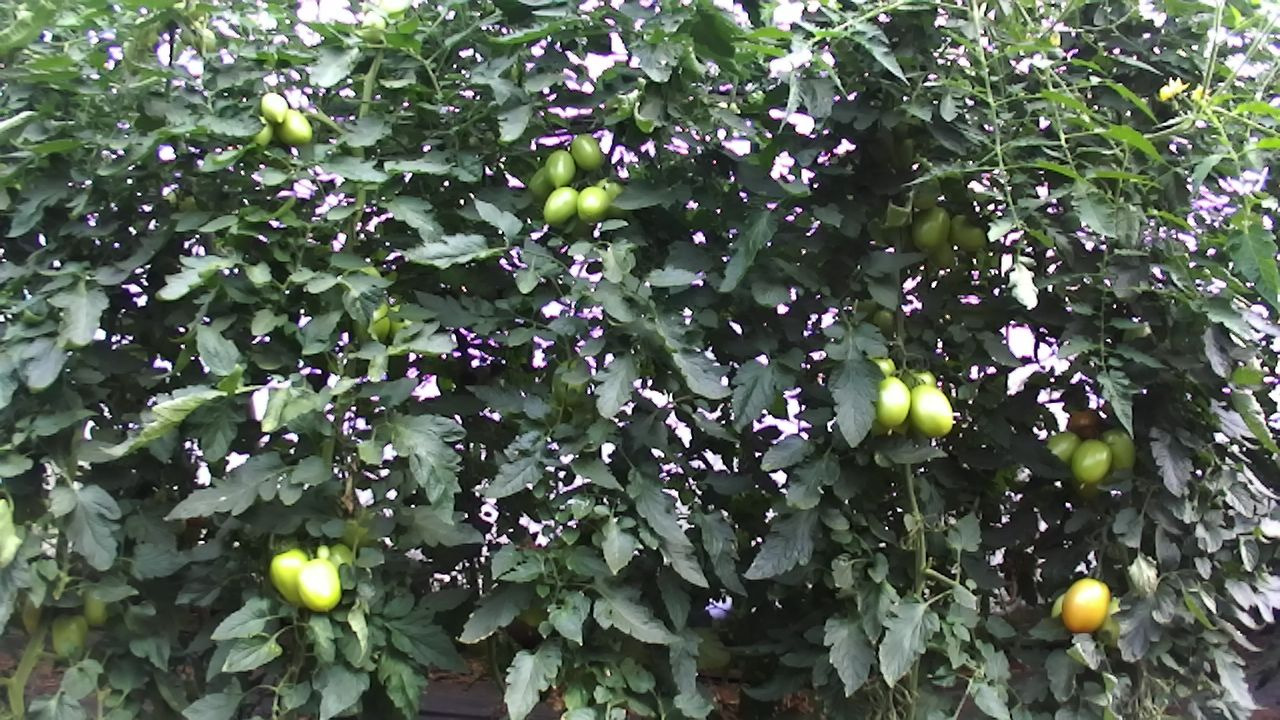tomato: (1058, 574, 1112, 636), (265, 545, 309, 611), (296, 556, 343, 615), (907, 382, 954, 439), (908, 203, 952, 255), (873, 374, 913, 431), (1068, 436, 1113, 485), (1095, 424, 1138, 475), (948, 212, 988, 254), (541, 185, 580, 228), (541, 145, 578, 189), (273, 107, 313, 146), (575, 185, 611, 228), (569, 132, 604, 174), (258, 89, 289, 128)
